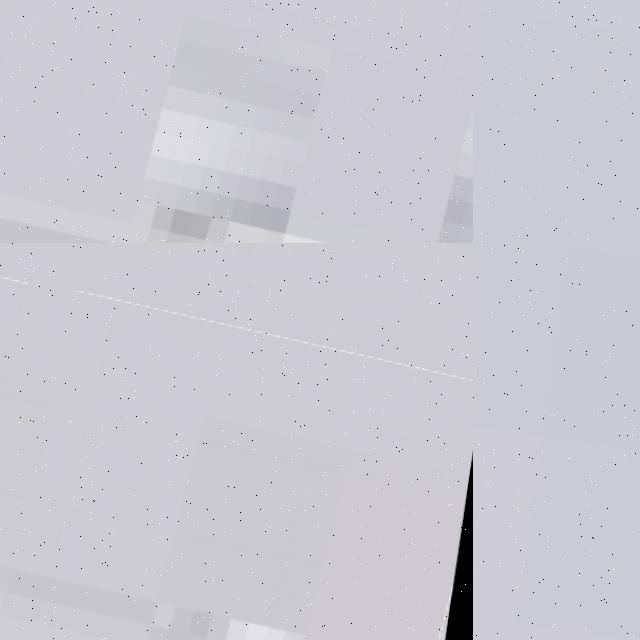drone: (0, 259, 473, 640), (0, 0, 473, 243)
